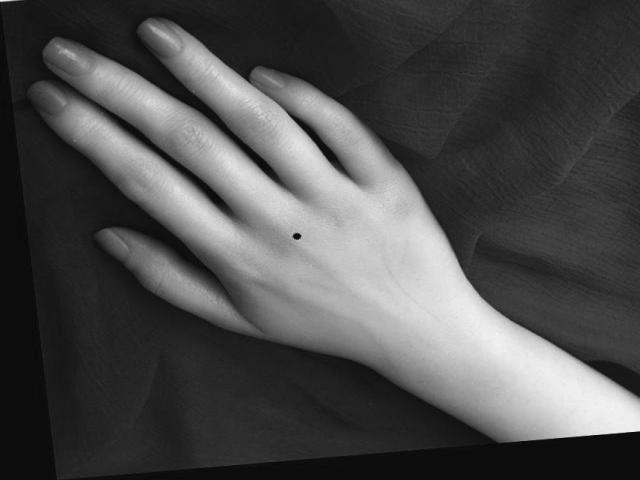not-gloved: (27, 18, 464, 356)
